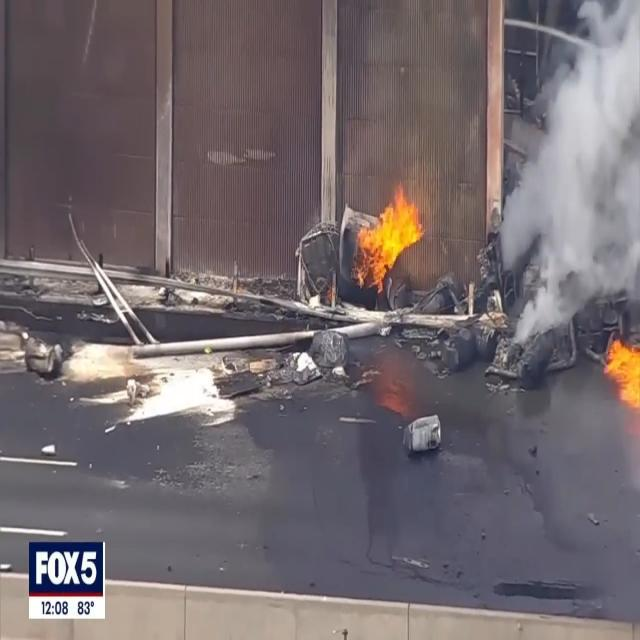fire: (356, 186, 420, 290)
